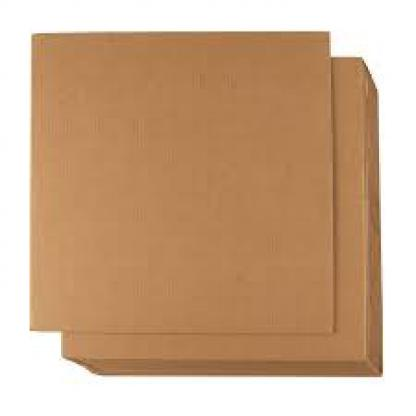CARDBOARD: (61, 52, 381, 373), (27, 30, 335, 334)
